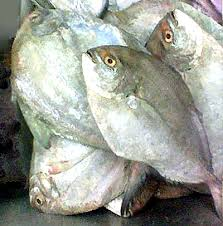Ikan Bawal: (76, 37, 223, 196), (11, 5, 125, 153)
